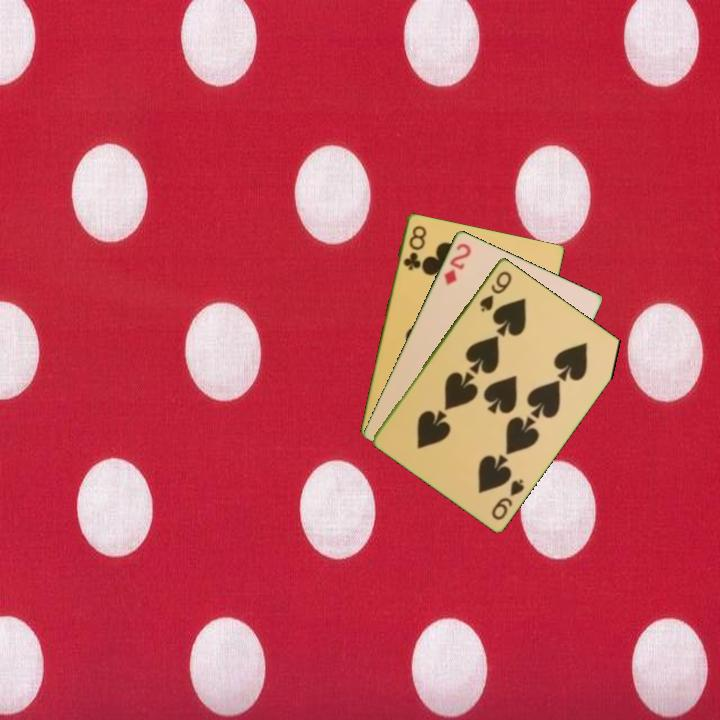2d: (440, 239, 474, 288)
8c: (399, 222, 429, 273)
9s: (488, 475, 527, 523), (476, 267, 515, 314)
